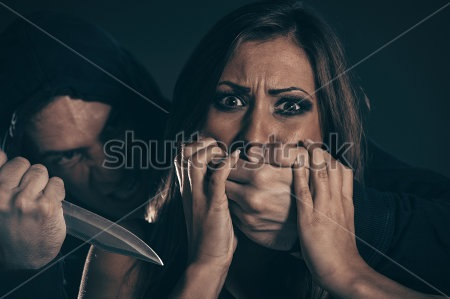knife: (1, 154, 171, 270)
